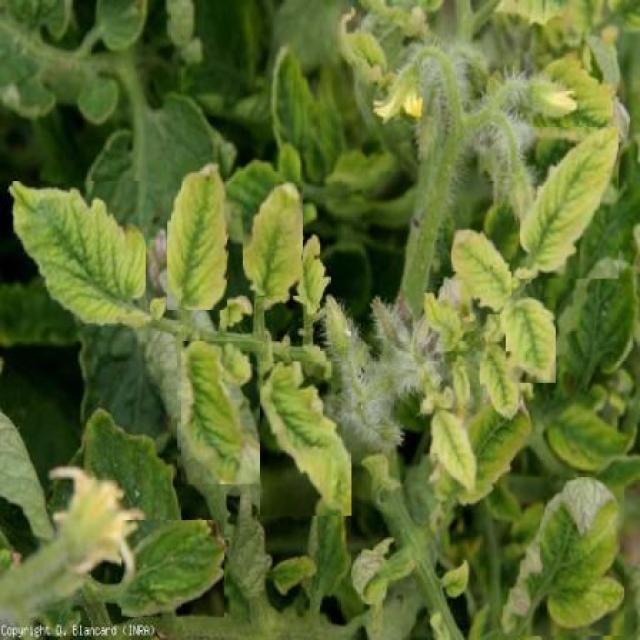Yellow Leaf Curl Virus: (9, 180, 146, 327), (499, 477, 624, 636), (520, 128, 619, 279), (260, 362, 352, 517), (177, 340, 263, 484), (122, 520, 225, 617), (168, 157, 228, 310), (243, 181, 303, 296), (451, 226, 512, 314), (425, 409, 485, 495), (506, 298, 556, 382)
